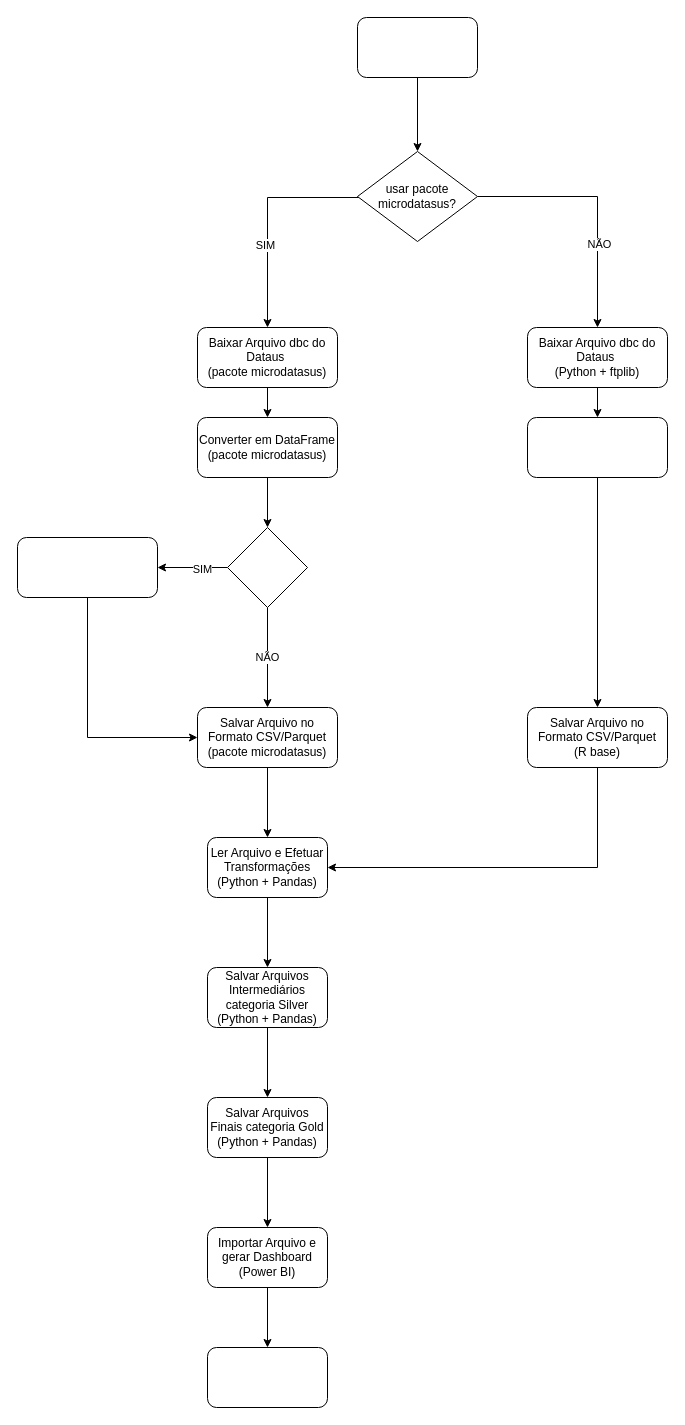
Some shapes in this 685 by 1425 pixel diagram are drawn without their labels. The shapes that lost their labels are listed below. From the top down, each one's centre as x and y in pixels, then its label:
the point at 417,47: Iniciar Processo Agendado (Github Actions)
the point at 597,447: Converter em DataFrame (pacote read.dbc)
the point at 87,567: Pré-Processar (pacote microdatasus)
the point at 267,567: Pré-Processar?
the point at 267,1377: Publicar Dashboard (Power BI)
